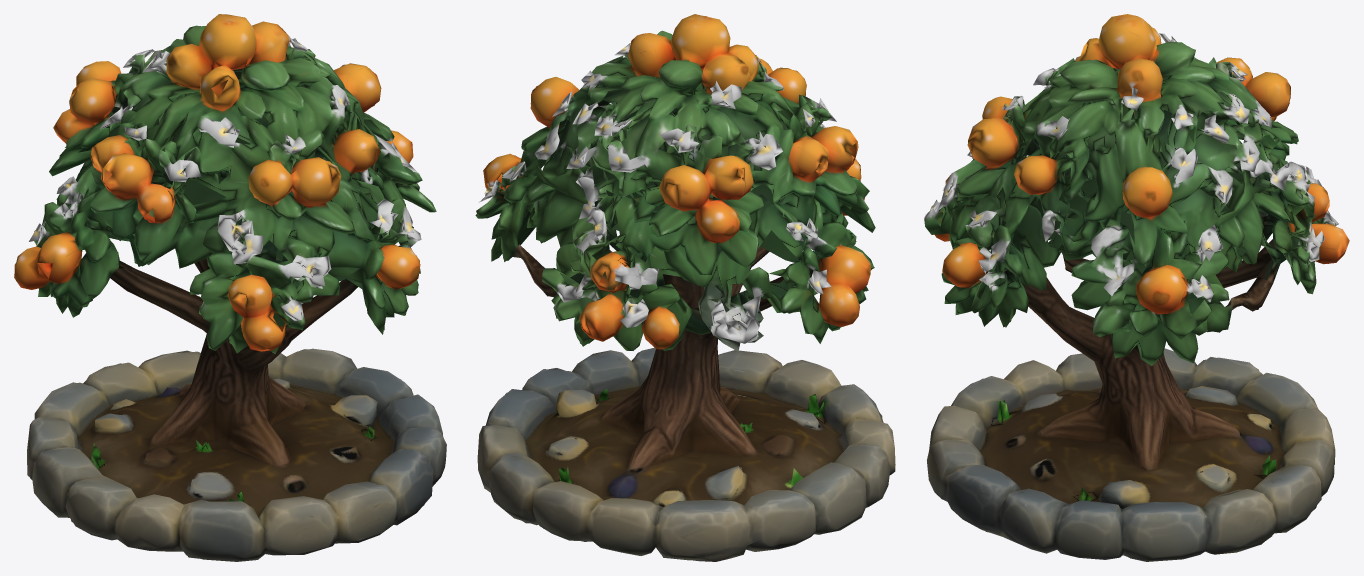
File: env_berry_bush.glb
3 renders of one model, left to right at view 1: azimuth 30°, elevation 25°; view 2: azimuth 150°, elevation 25°; view 3: azimuth 270°, elevation 25°, orthographic.
Visible parts, largest first — view 1: world; view 2: world; view 3: world.
Part boxes in pixels (bbox=[...]): world: bbox=[14, 14, 446, 561]; world: bbox=[475, 14, 895, 561]; world: bbox=[924, 14, 1349, 561].
Size of the model in its own units: 0.8658 by 0.994 by 0.8418.
Materials: 1 (1 with a texture image).
